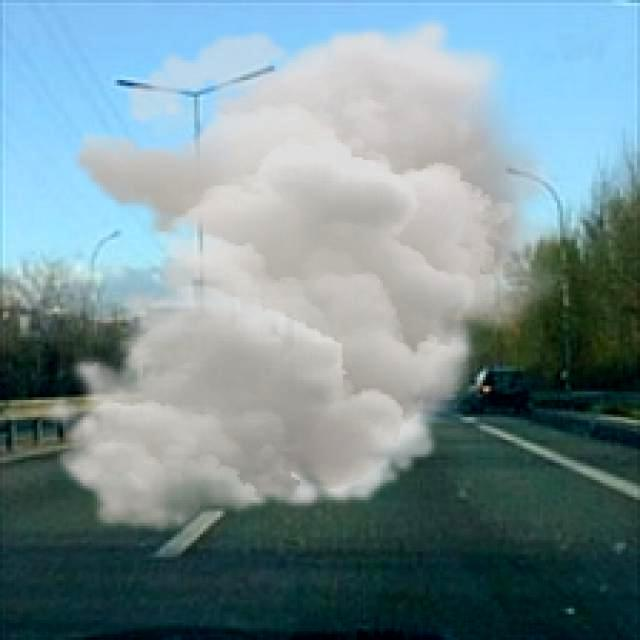Smoke: (37, 15, 577, 535)
